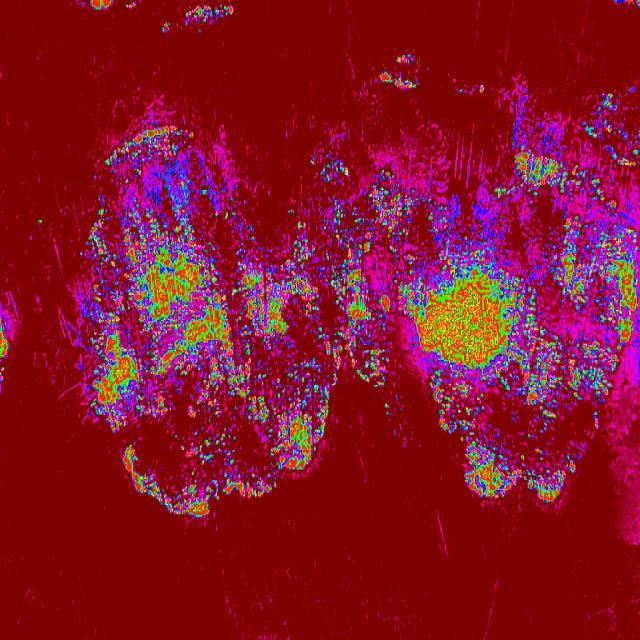fire: (312, 131, 640, 408), (74, 115, 258, 511), (264, 207, 336, 484), (436, 409, 590, 500), (486, 70, 640, 131), (374, 44, 429, 95), (162, 0, 235, 32), (0, 291, 18, 389), (80, 0, 142, 10)
